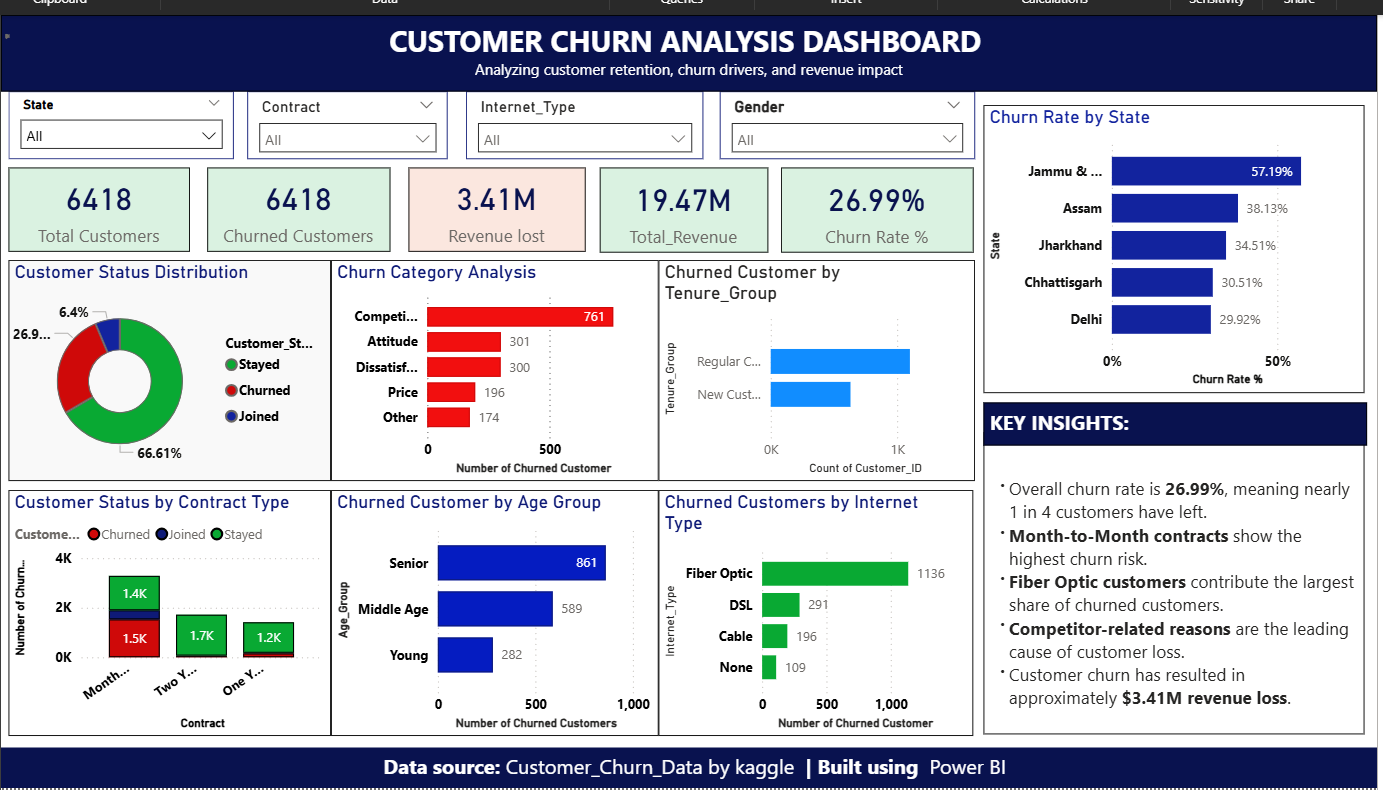

This screenshot's page, from the dashboard's own definition file:
{"tool":"powerbi","page":{"name":"Page 1","canvas":[1280,720],"ordinal":0},"visuals":[{"type":"card","fields":{"Values":["CountNonNull(prod_churn (2).Customer_ID)"]},"box":[6.9,141.3,168.8,78.2],"z":0},{"type":"card","fields":{"Values":["Sum(prod_churn (2).Total_Revenue)"]},"box":[557.1,141.3,156.4,79.6],"z":1000},{"type":"card","fields":{"Values":["Sum(prod_churn (2).Total_Revenue)"]},"box":[378.7,141.3,164.7,78.2],"z":2000},{"type":"card","fields":{"Values":["CountNonNull(prod_churn (2).Churned Customers)"]},"box":[192.1,141.3,170.2,78.2],"z":3000},{"type":"clusteredBarChart","title":"Churn Category Analysis","fields":{"Category":["prod_churn (2).Churn_Category"],"Y":["CountNonNull(prod_churn (2).Customer_ID)"]},"box":[306.4,227.5,305.1,205.7],"z":4000},{"type":"pieChart","title":"Customer Status Distribution","fields":{"Y":["CountNonNull(prod_churn (2).Customer_ID)"],"Category":["prod_churn (2).Customer_Status"]},"box":[6.7,227.8,300,205.6],"z":5000},{"type":"columnChart","title":"Customer Status by Contract Type","fields":{"Series":["prod_churn (2).Customer_Status"],"Category":["prod_churn (2).Contract"],"Y":["CountNonNull(prod_churn (2).Customer_ID)"]},"box":[6.8,441.3,299.6,228.8],"z":6000},{"type":"clusteredBarChart","title":"Churned Customers by Internet Type","fields":{"Category":["prod_churn (2).Internet_Type"],"Y":["CountNonNull(prod_churn (2).Customer_ID)"]},"box":[611.5,441.3,292.8,228.8],"z":7000},{"type":"clusteredBarChart","title":"Churned Customer by Age Group","fields":{"Category":["prod_churn (2).Age_Group"],"Y":["CountNonNull(prod_churn (2).Customer_ID)"]},"box":[306.4,441.3,305.1,228.8],"z":8000},{"type":"slicer","fields":{"Values":["prod_churn (2).Gender"]},"box":[668.3,71.4,237.4,63.1],"z":9000},{"type":"slicer","fields":{"Values":["prod_churn (2).State"]},"box":[6.9,71.4,209.9,63.1],"z":10000},{"type":"slicer","fields":{"Values":["prod_churn (2).Internet_Type"]},"box":[432.2,71.4,220.9,63.1],"z":11000},{"type":"slicer","fields":{"Values":["prod_churn (2).Contract"]},"box":[229.2,71.4,186.6,63.1],"z":12000},{"type":"textbox","box":[0,0,1280.3,70.8],"z":13000},{"type":"textbox","box":[0,681,1280.3,39.5],"z":14000},{"type":"actionButton","box":[0,0,12.3,39.8],"z":15000},{"type":"textbox","box":[914.4,388.9,354.4,281.1],"z":16000},{"type":"textbox","box":[914.4,360,356.7,40],"z":17000},{"type":"card","fields":{"Values":["prod_churn (2).Churn Rate %"]},"box":[725.6,141.4,179,79.4],"z":18000},{"type":"barChart","title":"Churn Rate by State","fields":{"Y":["prod_churn (2).Churn Rate %"],"Category":["prod_churn (2).State"]},"box":[914.4,83.3,354.4,267.8],"z":19000},{"type":"barChart","title":"Churned Customer by Tenure_Group","fields":{"Category":["prod_churn (2).Tenure_Group"],"Y":["CountNonNull(prod_churn (2).Customer_ID)"]},"box":[611.5,227.5,294.2,205.7],"z":20000}]}

Visuals, with their boxes in screenshot pixels (x1, y1, x2, y2):
card - CountNonNull(prod_churn (2).Customer_ID): (x1=11, y1=165, x2=191, y2=248)
card - Sum(prod_churn (2).Total_Revenue): (x1=597, y1=165, x2=764, y2=250)
card - Sum(prod_churn (2).Total_Revenue): (x1=407, y1=165, x2=583, y2=248)
card - CountNonNull(prod_churn (2).Churned Customers): (x1=208, y1=165, x2=390, y2=248)
"Churn Category Analysis" clusteredBarChart: (x1=330, y1=257, x2=655, y2=476)
"Customer Status Distribution" pieChart: (x1=11, y1=257, x2=330, y2=476)
"Customer Status by Contract Type" columnChart: (x1=11, y1=485, x2=330, y2=728)
"Churned Customers by Internet Type" clusteredBarChart: (x1=655, y1=485, x2=967, y2=728)
"Churned Customer by Age Group" clusteredBarChart: (x1=330, y1=485, x2=655, y2=728)
slicer - prod_churn (2).Gender: (x1=716, y1=90, x2=969, y2=158)
slicer - prod_churn (2).State: (x1=11, y1=90, x2=235, y2=158)
slicer - prod_churn (2).Internet_Type: (x1=464, y1=90, x2=699, y2=158)
slicer - prod_churn (2).Contract: (x1=248, y1=90, x2=447, y2=158)
textbox: (x1=4, y1=14, x2=1368, y2=90)
textbox: (x1=4, y1=740, x2=1368, y2=782)
actionButton: (x1=4, y1=14, x2=17, y2=57)
textbox: (x1=978, y1=429, x2=1356, y2=728)
textbox: (x1=978, y1=398, x2=1358, y2=441)
card - prod_churn (2).Churn Rate %: (x1=777, y1=165, x2=967, y2=250)
"Churn Rate by State" barChart: (x1=978, y1=103, x2=1356, y2=389)
"Churned Customer by Tenure_Group" barChart: (x1=655, y1=257, x2=969, y2=476)
